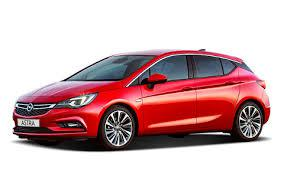car: (13, 48, 273, 146), (13, 48, 273, 143)
